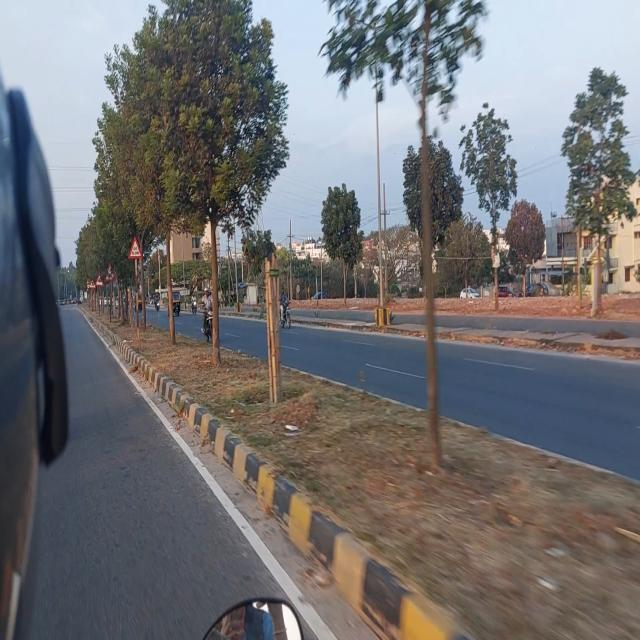bien_cam: (128, 233, 142, 261)
